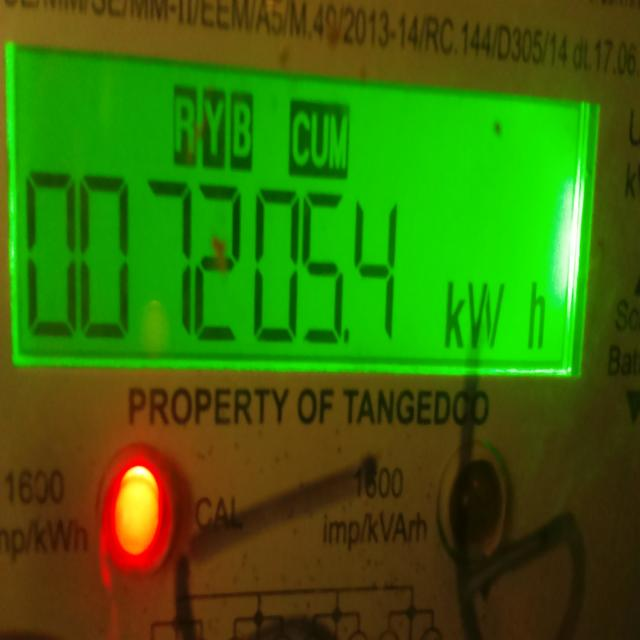.: (343, 313, 352, 357)
0: (20, 164, 79, 346), (78, 163, 135, 350), (249, 179, 301, 352)
2: (193, 167, 245, 349)
4: (352, 191, 408, 347)
5: (302, 180, 349, 349)
7: (142, 170, 193, 344)
